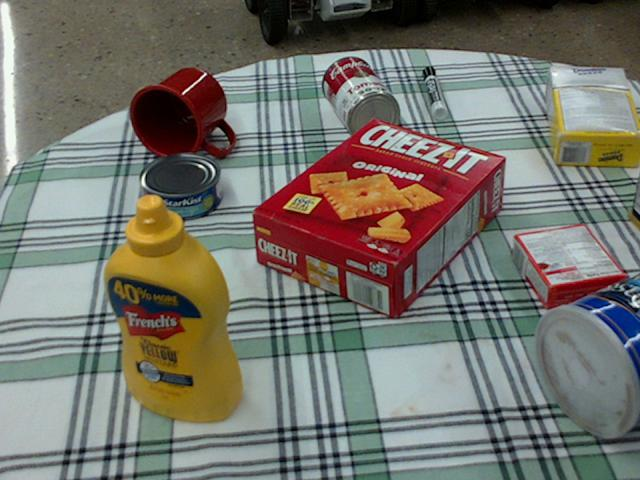cracker_box: (251, 119, 507, 318)
gelatin_box: (511, 223, 624, 306)
large_marker: (422, 66, 446, 117)
master_chef_can: (536, 271, 639, 438)
mug: (129, 67, 233, 160)
mustard_bottle: (103, 194, 244, 420)
potted_meat_can: (626, 162, 639, 230)
sugar_box: (545, 65, 639, 169)
tomato_soup_can: (321, 55, 400, 140)
tuna_fish_can: (137, 152, 221, 219)
